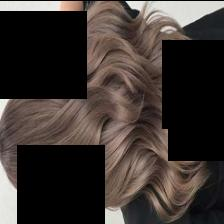brown: (0, 1, 223, 219)
